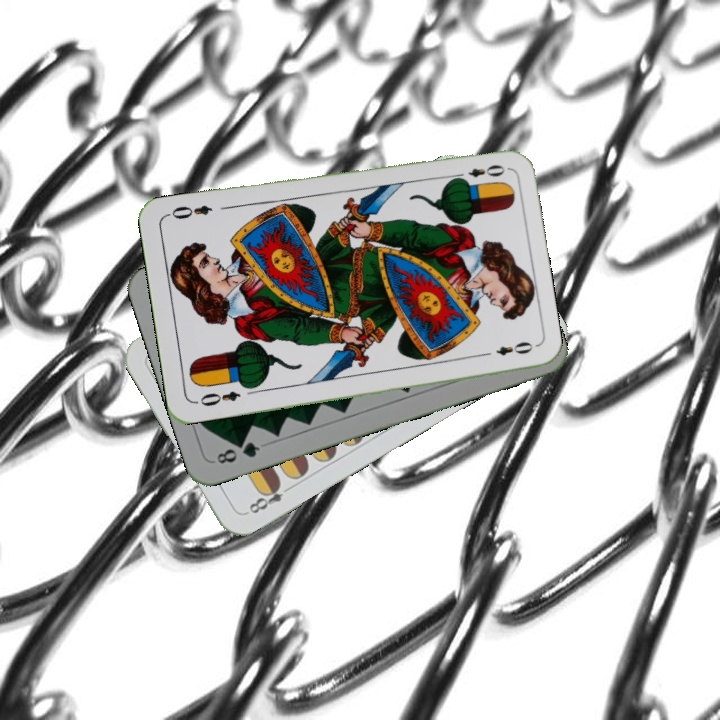E8: (241, 477, 295, 517)
EO: (450, 160, 508, 185), (191, 387, 243, 409)
G8: (212, 437, 263, 467)
